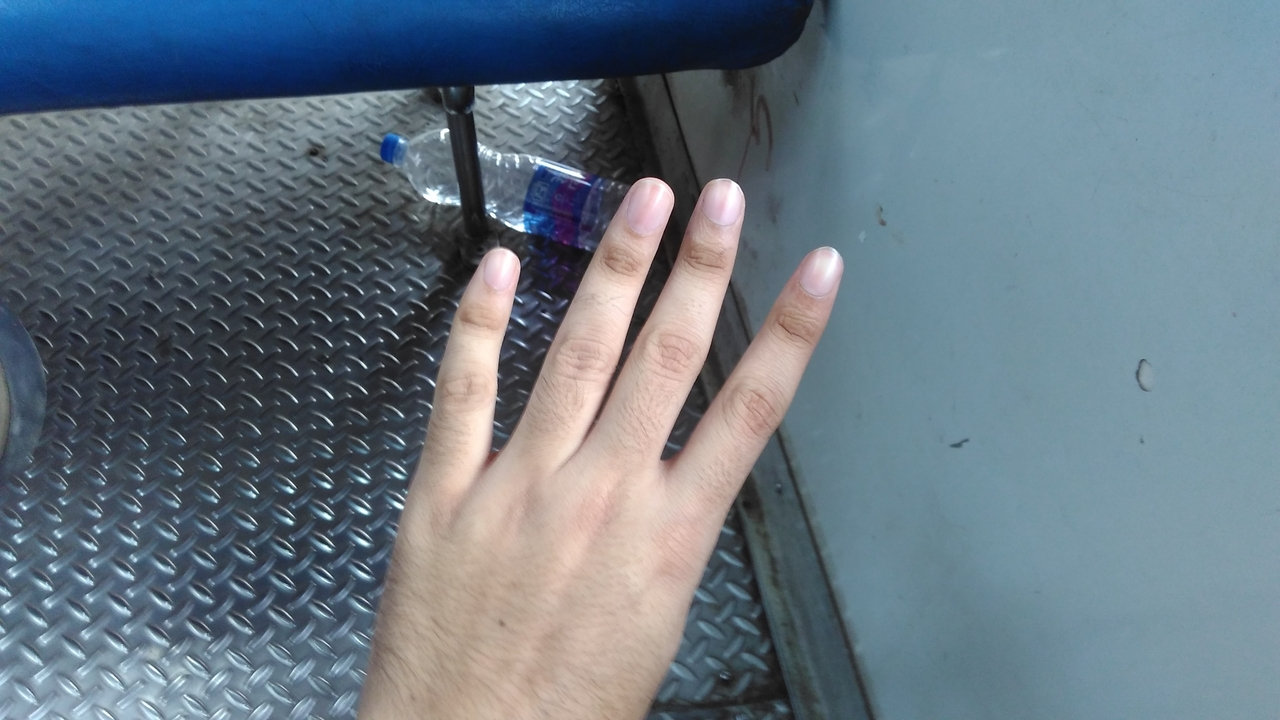fingertip: (610, 168, 682, 236), (460, 236, 524, 306), (688, 172, 752, 238), (790, 236, 856, 298)
